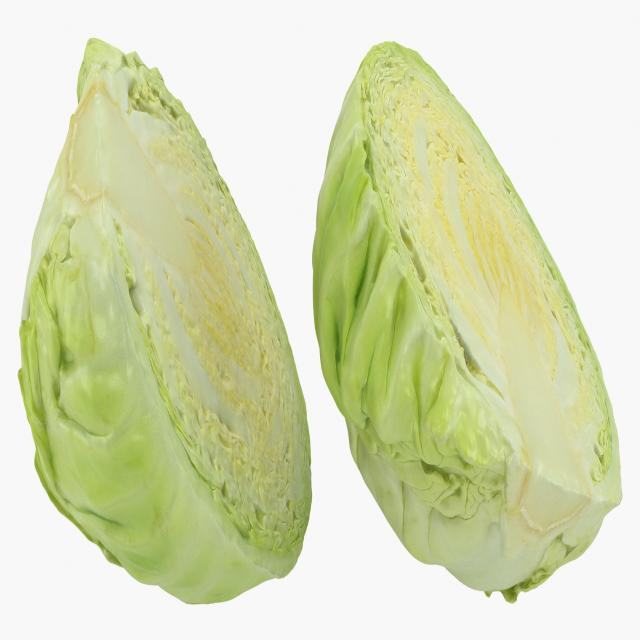haft-cabbage: (314, 37, 624, 603), (15, 25, 314, 607)
